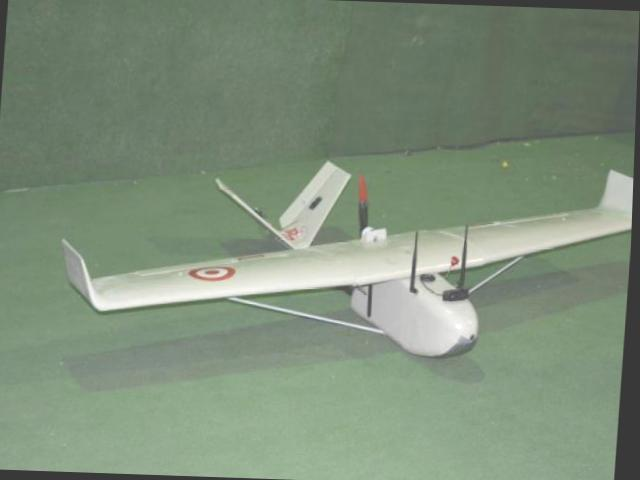iha: (42, 137, 636, 374)
